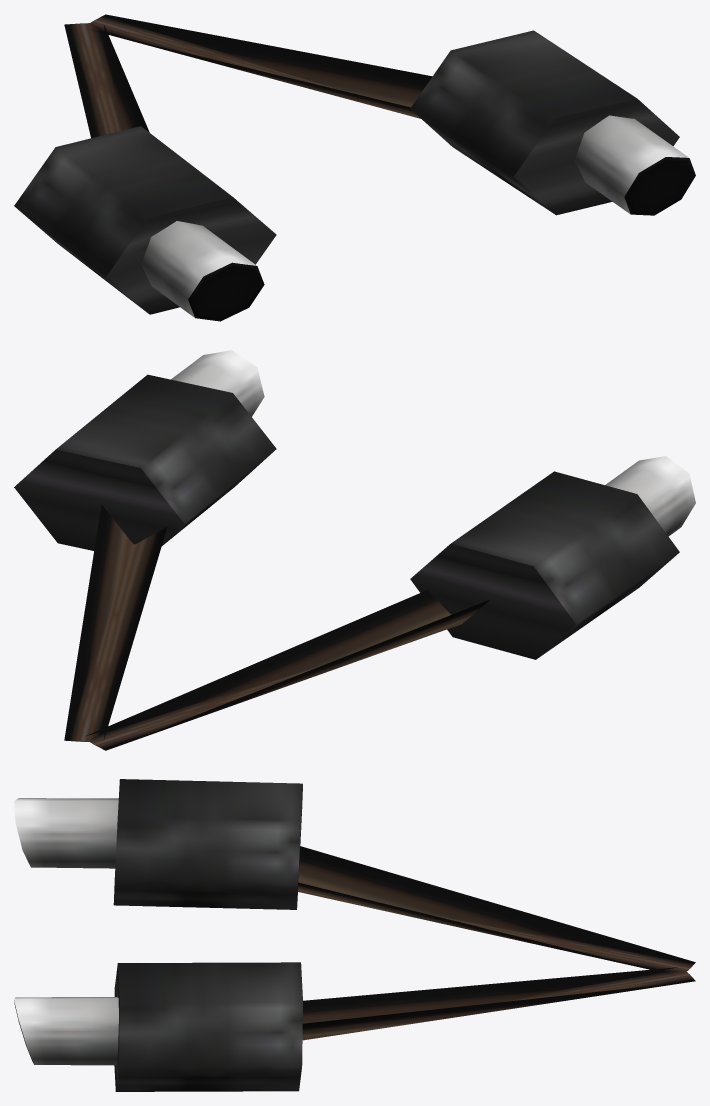
Rendered from exh_c_s.glb.
3 views of the same model, one above another, from view 1: azimuth 30°, elevation 25°; view 2: azimuth 150°, elevation 25°; view 3: azimuth 270°, elevation 25° (orthographic). The views are drawn at different scales.
Visible parts, largest first — view 1: exh_c_s; view 2: exh_c_s; view 3: exh_c_s.
Boxes of the visible parts, box(x1,y1,x2,y2) form: exh_c_s: box(14, 14, 695, 321); exh_c_s: box(14, 350, 695, 750); exh_c_s: box(14, 779, 695, 1091).
Size of the model in its own units: 1.27 by 0.2088 by 1.4.
2 materials, 2 textured.
